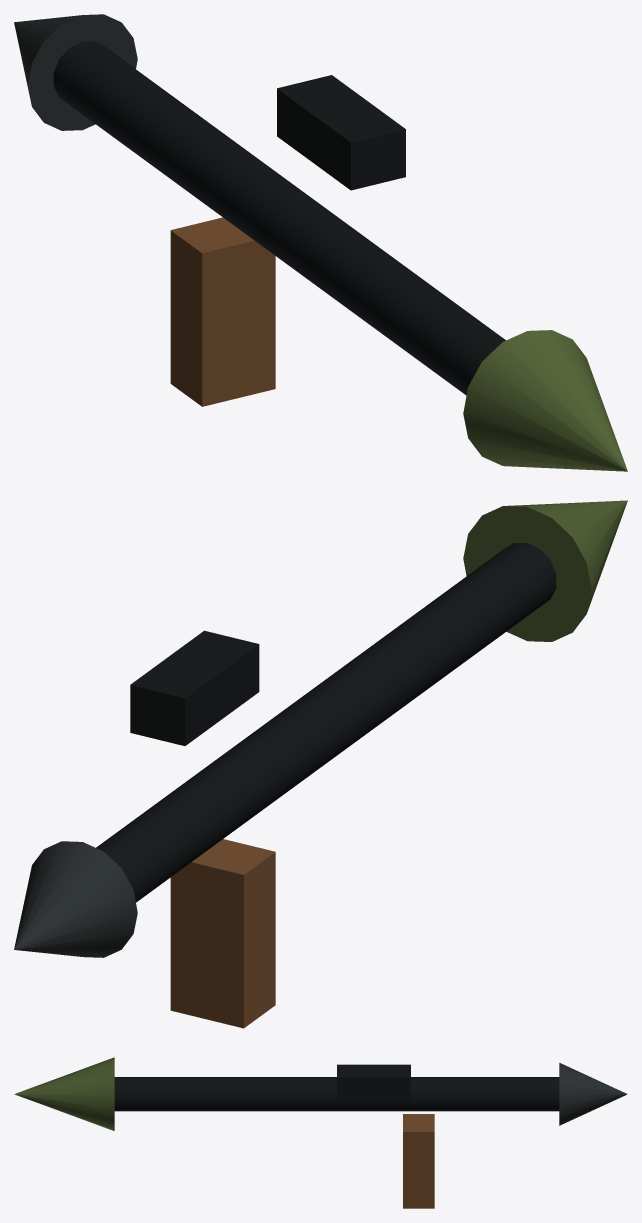
The model's file is rpg7-launcher.glb.
The picture shows the model from 3 angles, top to bottom: view 1: azimuth 30°, elevation 25°; view 2: azimuth 150°, elevation 25°; view 3: azimuth 270°, elevation 25°; orthographic projection. The views are drawn at different scales.
Parts seen in each view (by area): view 1: launchTube, woodGrip, rocketWarhead, opticSight, rearCone; view 2: launchTube, woodGrip, rocketWarhead, rearCone, opticSight; view 3: launchTube, rocketWarhead, woodGrip, opticSight, rearCone.
Boxes of the visible parts, x1,y1,x2,y2 form: launchTube: (53,41,505,395); woodGrip: (170,217,275,406); rocketWarhead: (463,330,627,471); opticSight: (277,75,405,190); rearCone: (14,14,137,130); launchTube: (96,543,556,902); woodGrip: (170,839,275,1028); rocketWarhead: (463,500,627,641); rearCone: (14,841,137,957); opticSight: (130,630,259,745); launchTube: (114,1077,559,1111); rocketWarhead: (14,1057,114,1130); woodGrip: (403,1114,434,1208); opticSight: (337,1064,410,1101); rearCone: (559,1063,627,1125).
Size of the model in its own units: 0.36 by 0.61 by 2.32.
